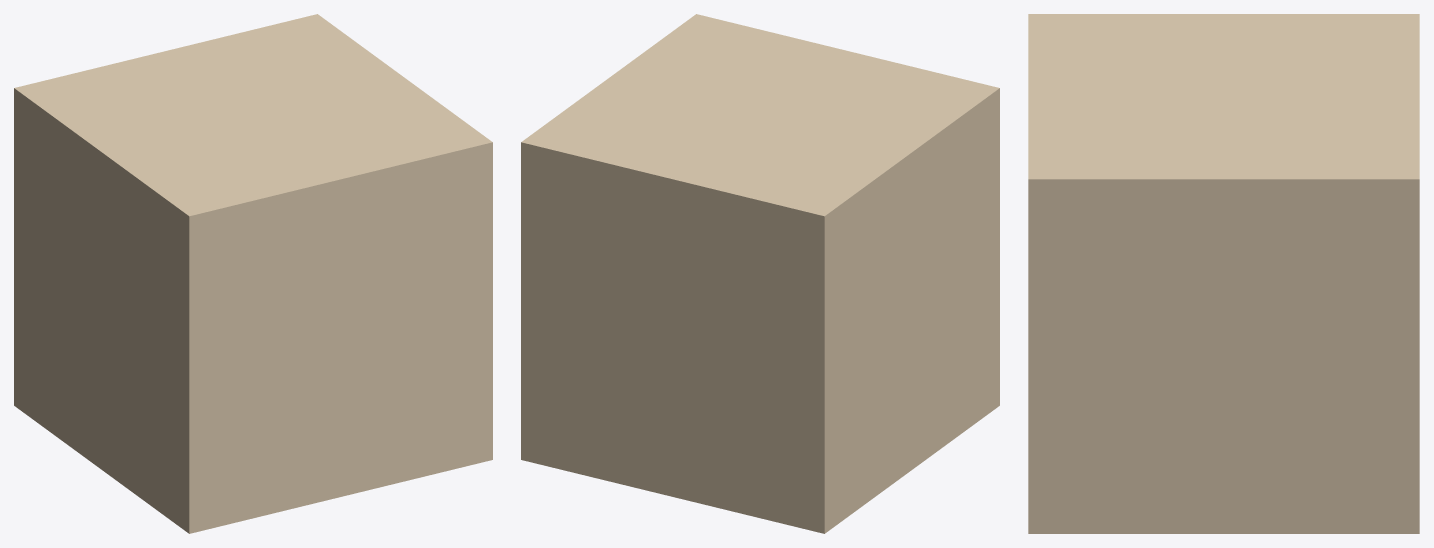
Rendered from 86_wall_panel.glb.
3 views of the same model, side by side, from view 1: azimuth 30°, elevation 25°; view 2: azimuth 150°, elevation 25°; view 3: azimuth 270°, elevation 25° (orthographic). The views are drawn at different scales.
Parts seen in each view (by area): view 1: Core, Panel; view 2: Core, Panel; view 3: Core, Panel.
Boxes of the visible parts, x1,y1,x2,y2 form: Core: (14,14,492,533); Panel: (14,218,490,403); Core: (521,14,999,533); Panel: (524,218,999,402); Core: (1028,14,1419,533); Panel: (1028,324,1419,388).
Size of the model in its own units: 1 by 1 by 1.
